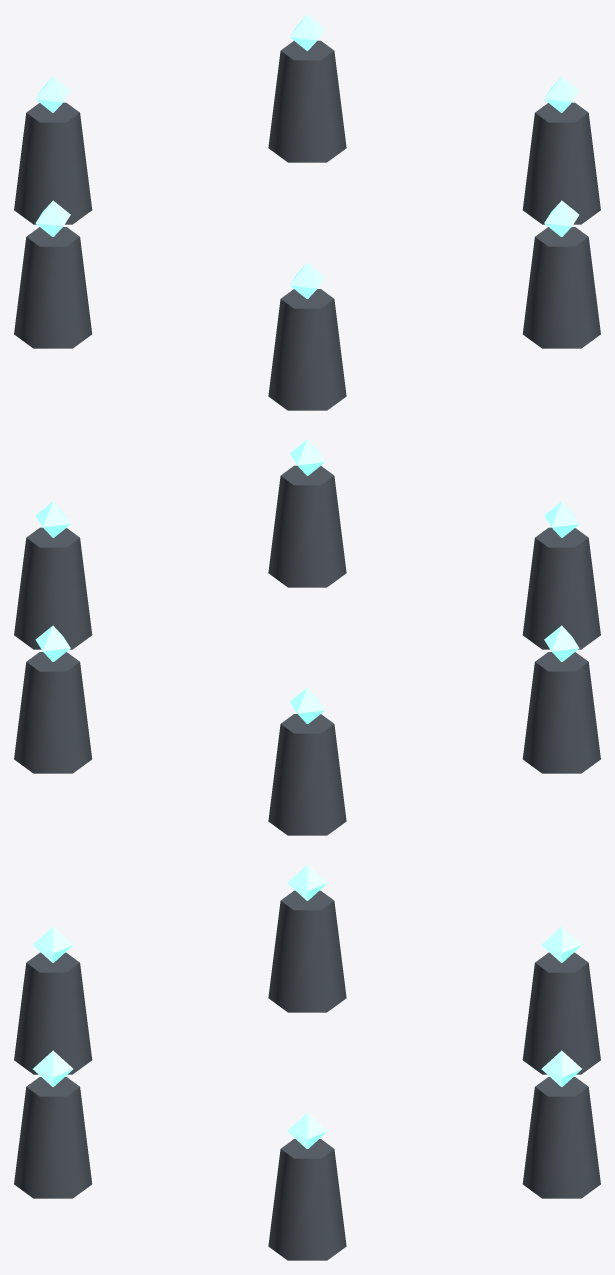
The model's file is qingqiu_01.glb.
3 views of the same model, one above another, from view 1: azimuth 30°, elevation 25°; view 2: azimuth 150°, elevation 25°; view 3: azimuth 270°, elevation 25° (orthographic).
Parts seen in each view (by area): view 1: base (×6), crystal (×6); view 2: base (×6), crystal (×6); view 3: base (×6), crystal (×6).
Part boxes in pixels (<box>): base (×6): <box>14,40,600,410</box>; crystal (×6): <box>35,14,579,298</box>; base (×6): <box>14,465,600,835</box>; crystal (×6): <box>35,439,579,723</box>; base (×6): <box>14,890,600,1260</box>; crystal (×6): <box>33,864,581,1148</box>.
Bounding box in the file's own units: 13.39 × 3.02 × 11.99.
